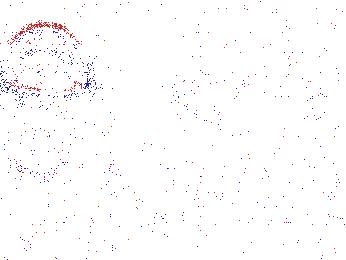moon jellyfish: (203, 10, 316, 77), (257, 20, 346, 103), (1, 81, 77, 174), (1, 23, 92, 97), (172, 30, 241, 121)
